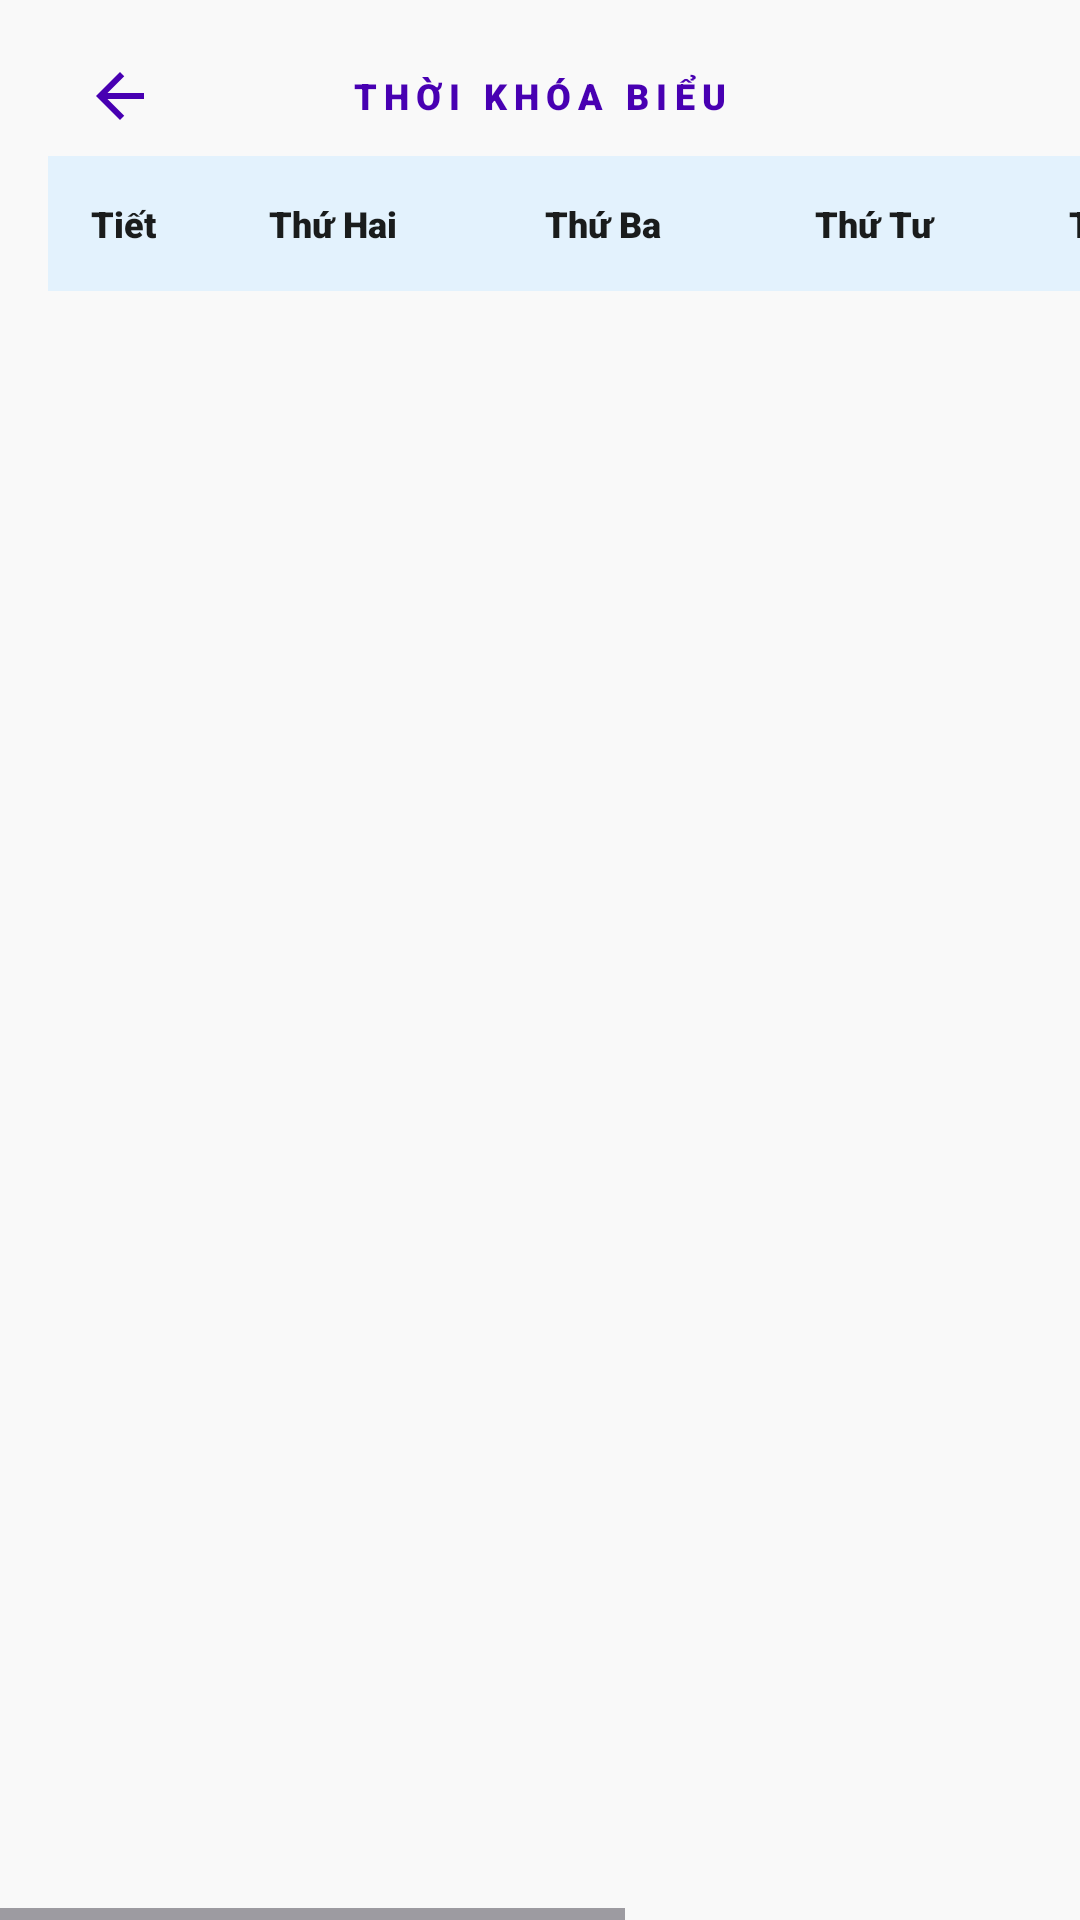

Screen size 1080×1920. Icon name, then its center in pixels as point (x, y):
arrow back: point (120, 96)
